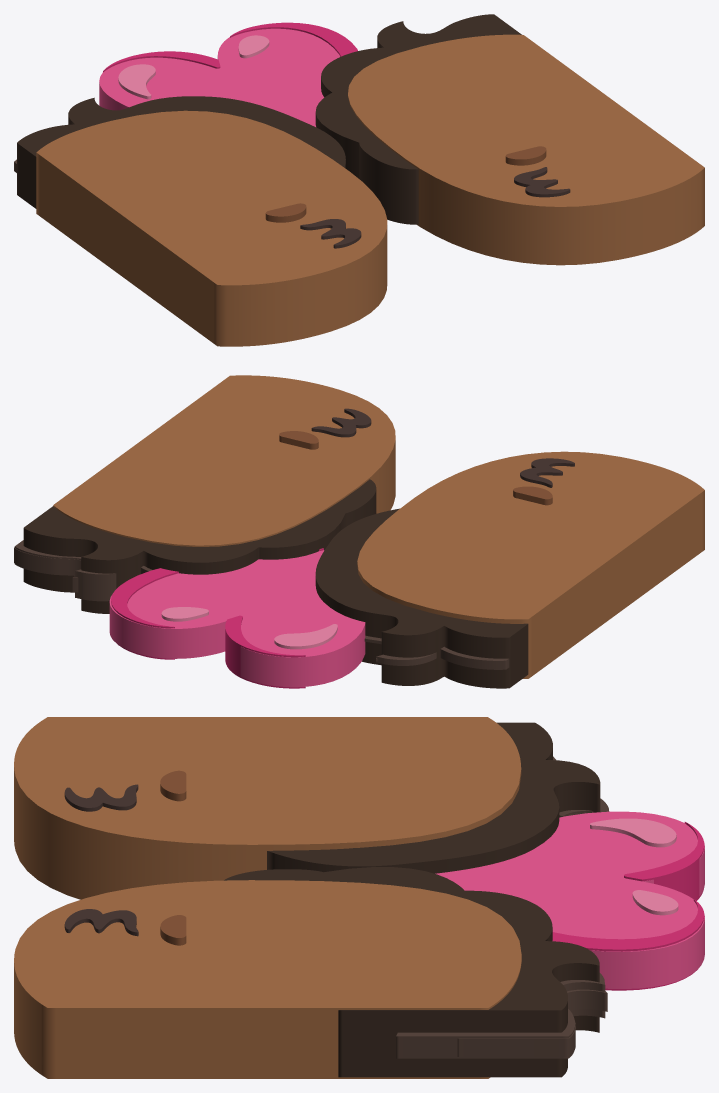
The model's file is emoji_u1f48f_1f3fe.glb.
3 views of the same model, one above another, from view 1: azimuth 30°, elevation 25°; view 2: azimuth 150°, elevation 25°; view 3: azimuth 270°, elevation 25° (orthographic). The views are drawn at different scales.
Visible parts, largest first — view 1: emoji_u1f48f_1f3fe; view 2: emoji_u1f48f_1f3fe; view 3: emoji_u1f48f_1f3fe.
Boxes of the visible parts, left/top/right/bottom form: emoji_u1f48f_1f3fe: left=14, top=14, right=704, bottom=346; emoji_u1f48f_1f3fe: left=14, top=375, right=704, bottom=688; emoji_u1f48f_1f3fe: left=14, top=717, right=704, bottom=1078.
Size of the model in its own units: 0.0338 by 0.0048 by 0.0336.
